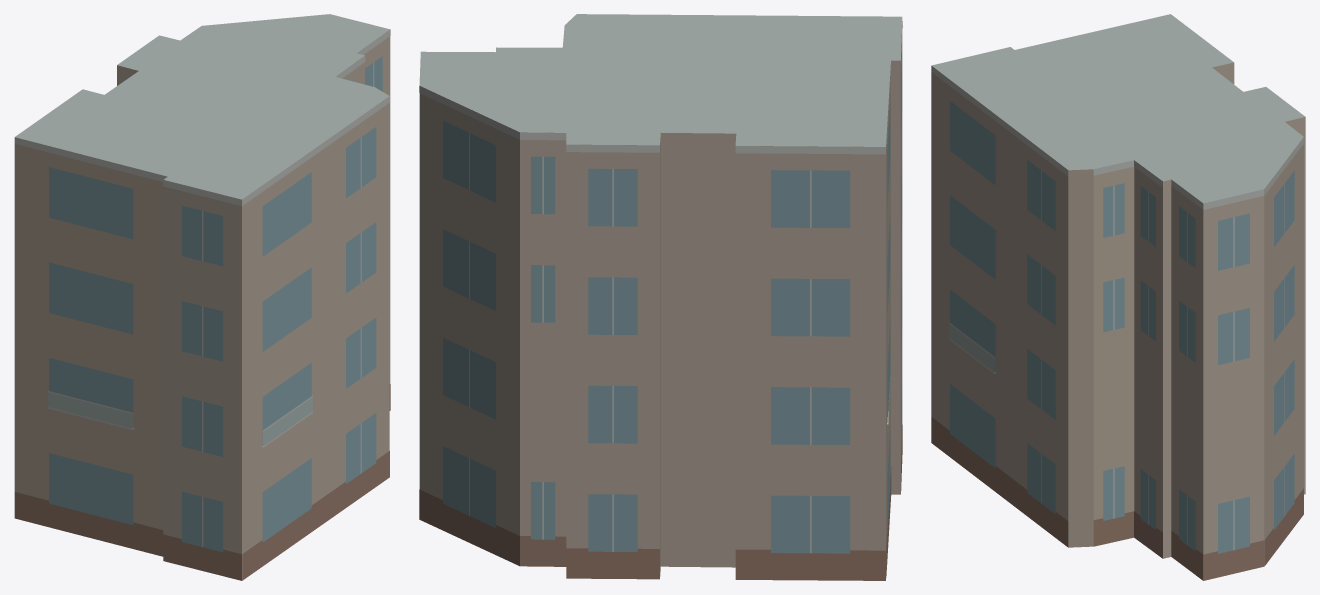
File: survey-upis-32696535.glb
3 views of the same model, side by side, from view 1: azimuth 30°, elevation 25°; view 2: azimuth 150°, elevation 25°; view 3: azimuth 270°, elevation 25° (orthographic). The views are drawn at different scales.
Visible parts, largest first — view 1: survey-upis-32696535.tmp; view 2: survey-upis-32696535.tmp; view 3: survey-upis-32696535.tmp.
Boxes of the visible parts, x1,y1,x2,y2 form: survey-upis-32696535.tmp: (14, 14, 390, 580); survey-upis-32696535.tmp: (419, 14, 902, 580); survey-upis-32696535.tmp: (931, 14, 1305, 580).
Size of the model in its own units: 15.3 by 14.2 by 12.77.
